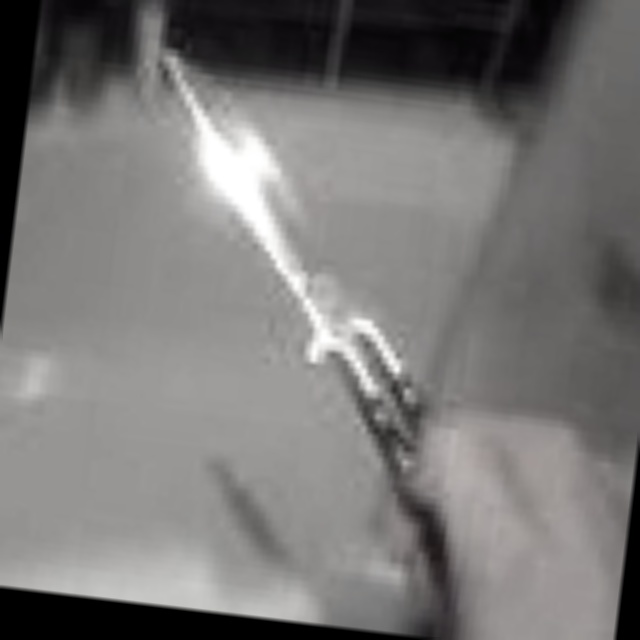Sharp-Object: (122, 57, 464, 511)
